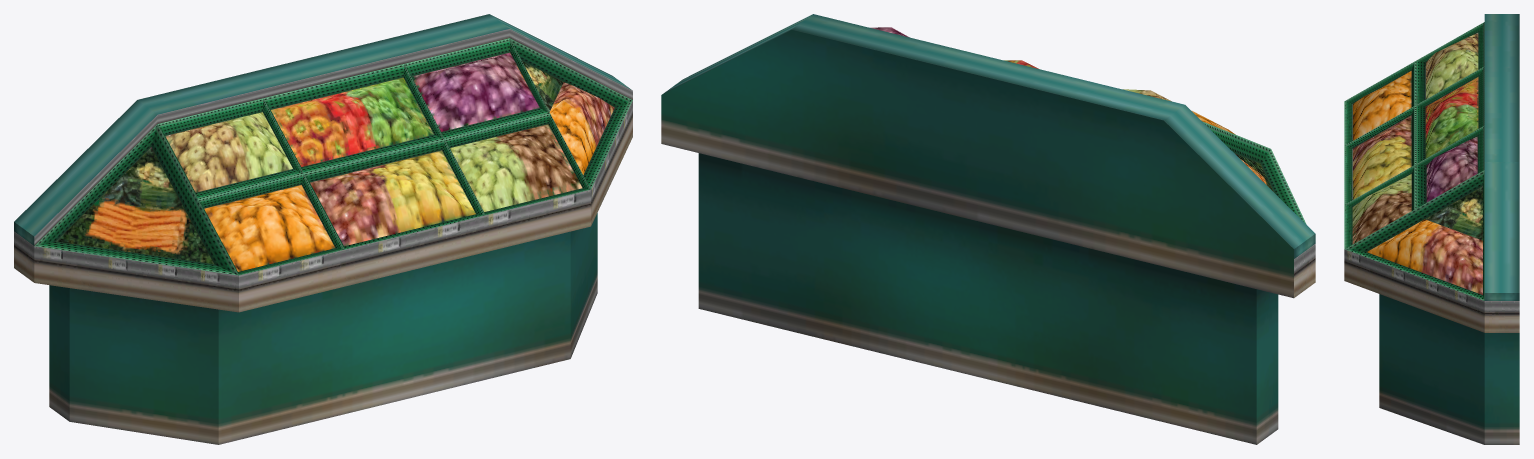
File: produce_rack.fbx
3 renders of one model, left to right at view 1: azimuth 30°, elevation 25°; view 2: azimuth 150°, elevation 25°; view 3: azimuth 270°, elevation 25°, orthographic. The views are drawn at different scales.
Parts seen in each view (by area): view 1: mesh_0; view 2: mesh_0; view 3: mesh_0.
Boxes of the visible parts, box(x1,y1,x2,y2) form: mesh_0: box(14, 14, 632, 444); mesh_0: box(661, 14, 1315, 444); mesh_0: box(1344, 14, 1519, 444).
Size of the model in its own units: 340 by 155 by 100.
Materials: 1 (1 with a texture image).
